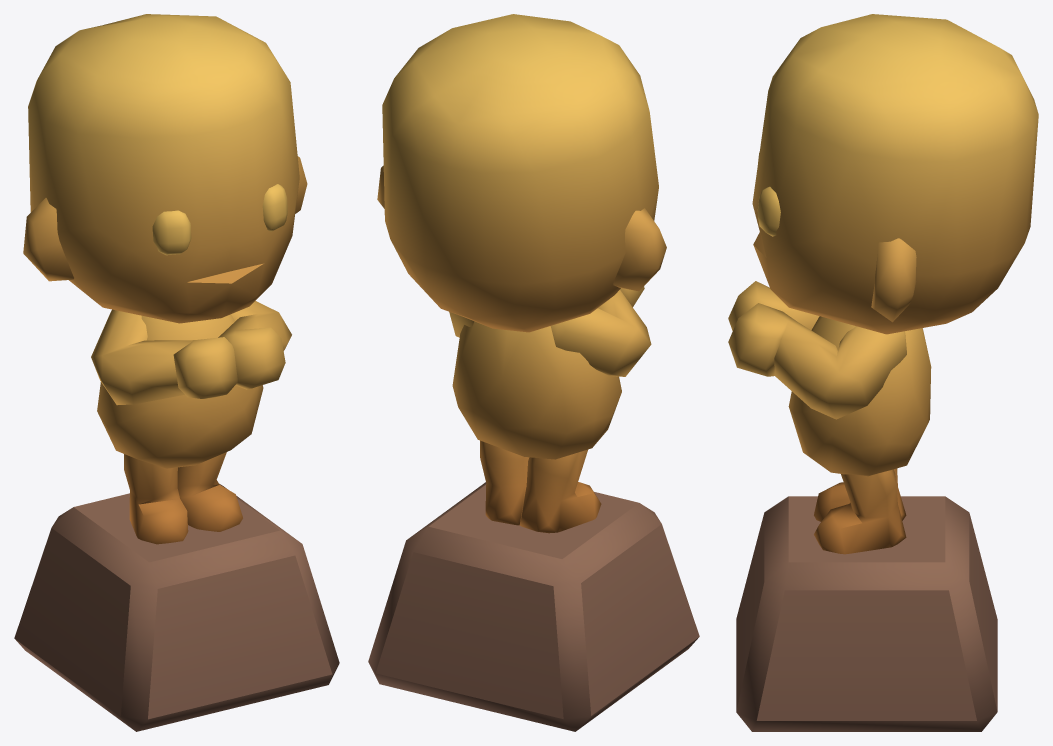
File: idol-a.glb
3 renders of one model, left to right at view 1: azimuth 30°, elevation 25°; view 2: azimuth 150°, elevation 25°; view 3: azimuth 270°, elevation 25°, orthographic. The views are drawn at different scales.
Visible parts, largest first — view 1: idol_A; view 2: idol_A; view 3: idol_A.
Part boxes in pixels (left/top/right/bottom): idol_A: left=14, top=14, right=339, bottom=731; idol_A: left=368, top=14, right=699, bottom=731; idol_A: left=728, top=14, right=1038, bottom=731.
Bounding box in the file's own units: 0.3896 × 0.8451 × 0.3677.
1 material, 1 textured.
